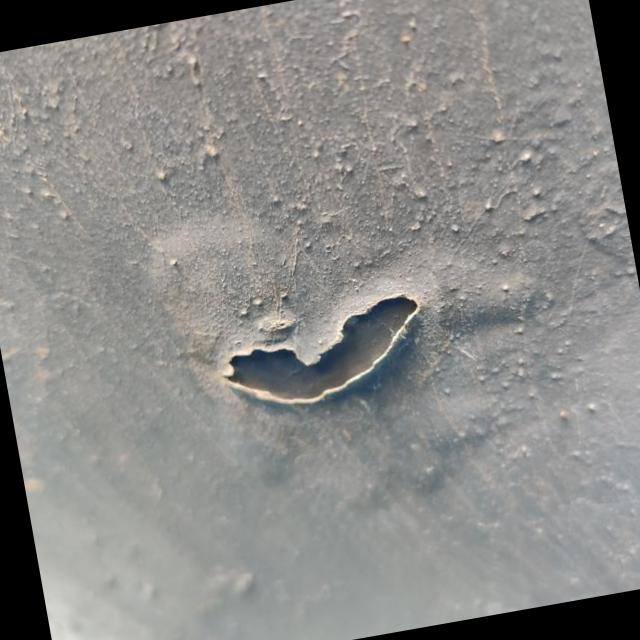Paint-off: (221, 296, 419, 405)
